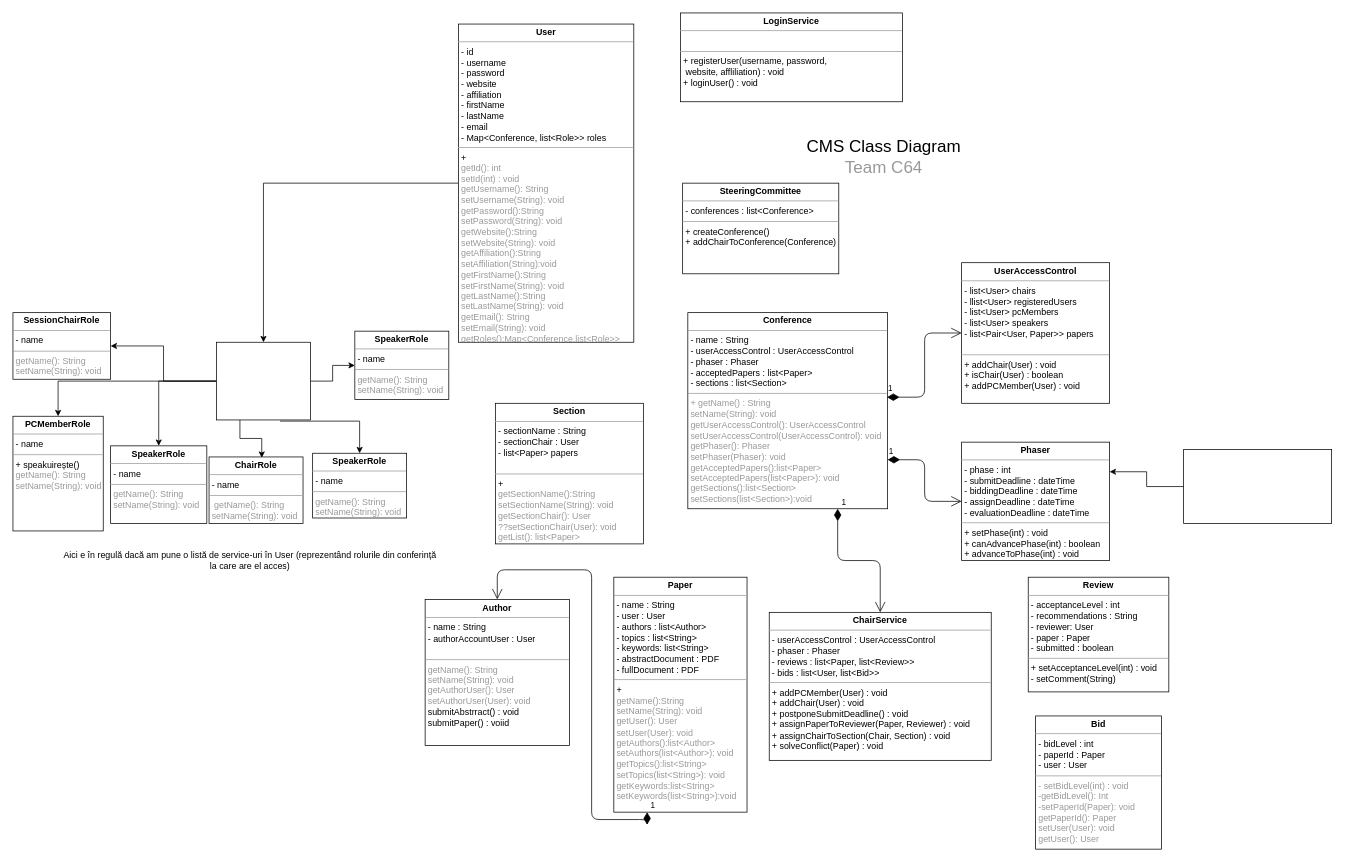
Image size: 1345x862. Some labels were removed from this diagram. Each missing label, with the centre of its shape:
"Role - name + getName(): String setName(String): void" goes at (263,381).
"SchedulerDemon (Thread) - conferences : list<Conferences> - run()" goes at (1257,486).
